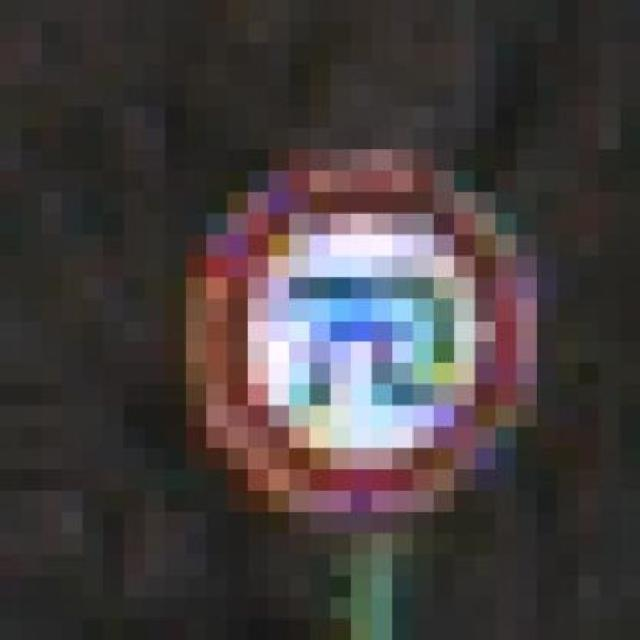forb_speed_over_70: (211, 167, 509, 496)
